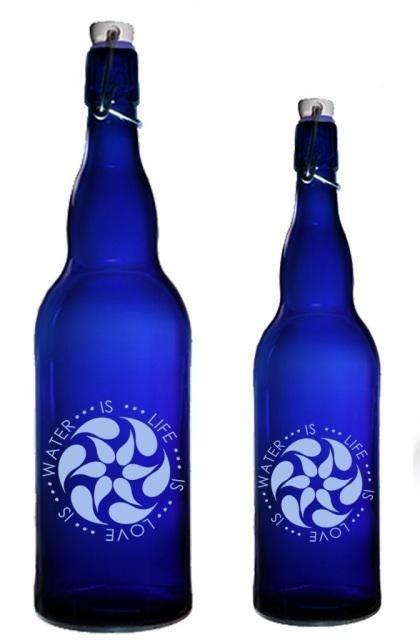bottle-glass: (30, 12, 197, 637), (250, 93, 387, 632)
